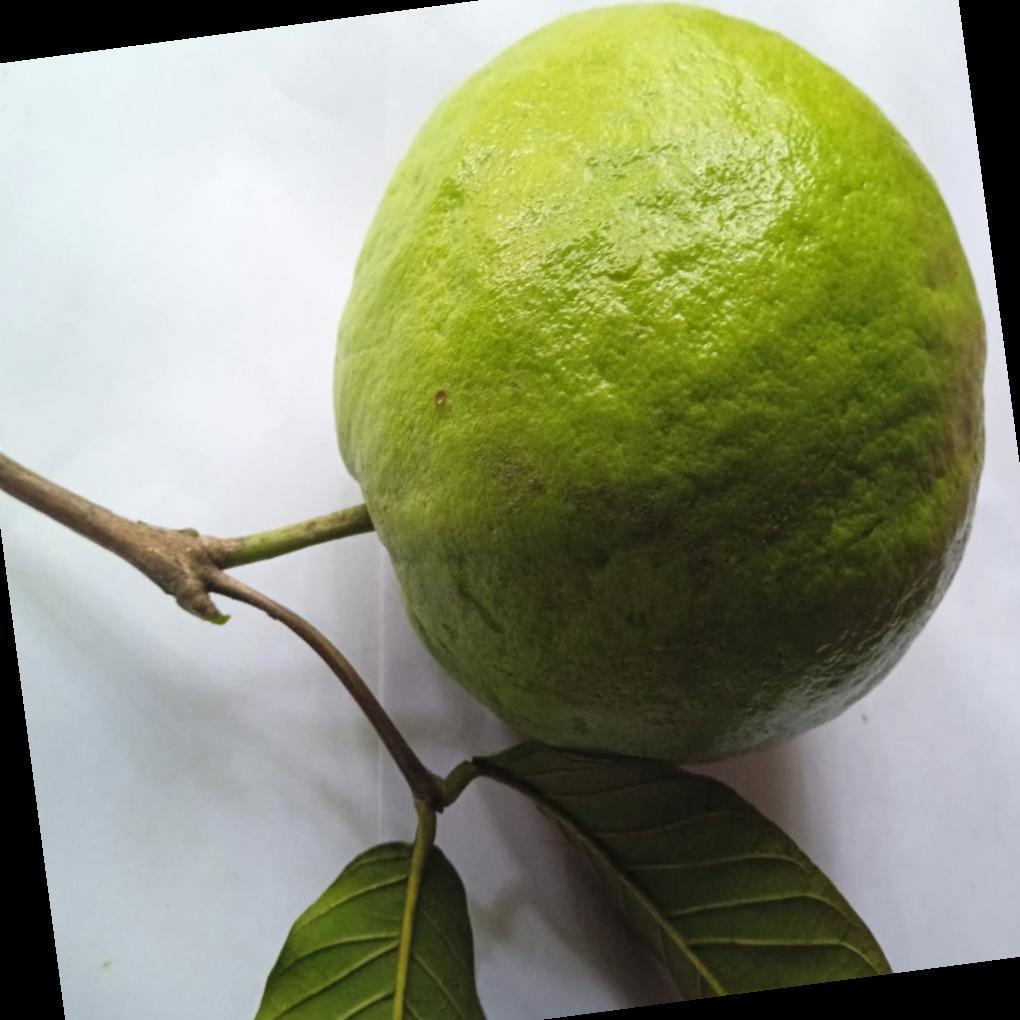FreshGuava: (332, 3, 996, 982)
